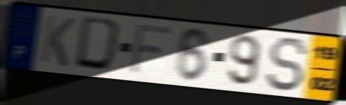6: (173, 27, 215, 84)
9: (227, 34, 263, 88)
D: (72, 15, 126, 76)
F: (128, 22, 175, 77)
K: (37, 13, 77, 69)
S: (264, 36, 310, 94)
